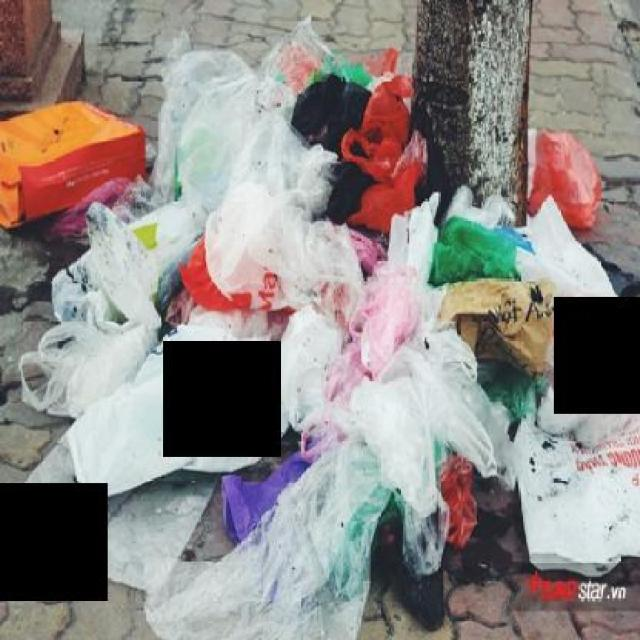plastic bag: (0, 0, 638, 638), (532, 122, 620, 240)
